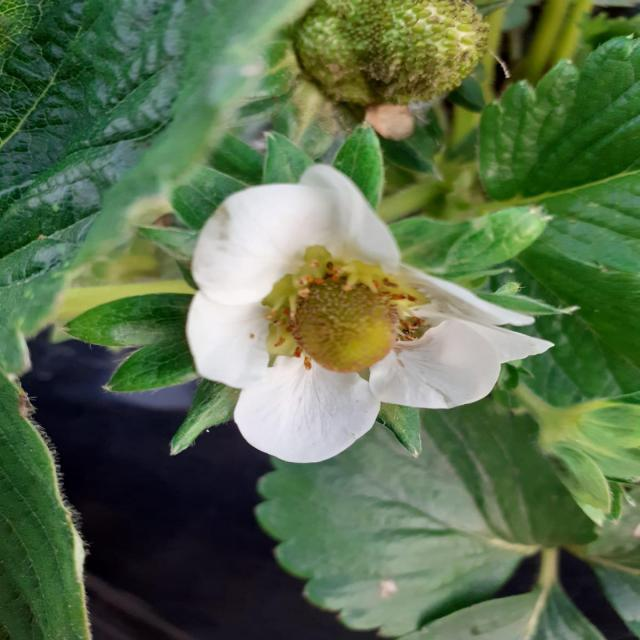flower: (186, 170, 566, 460)
